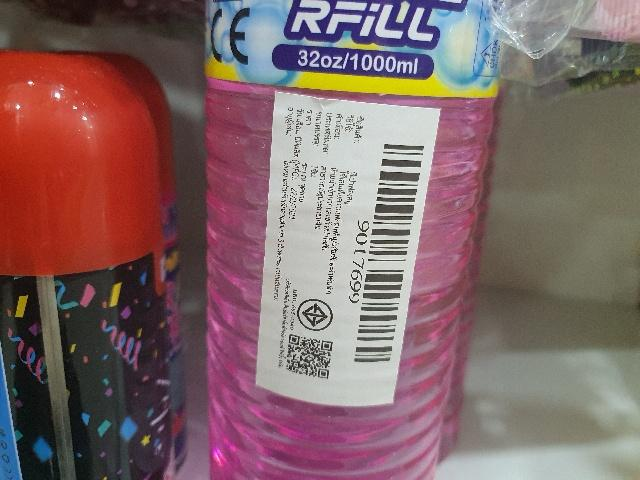Barcode: (347, 123, 430, 372)
